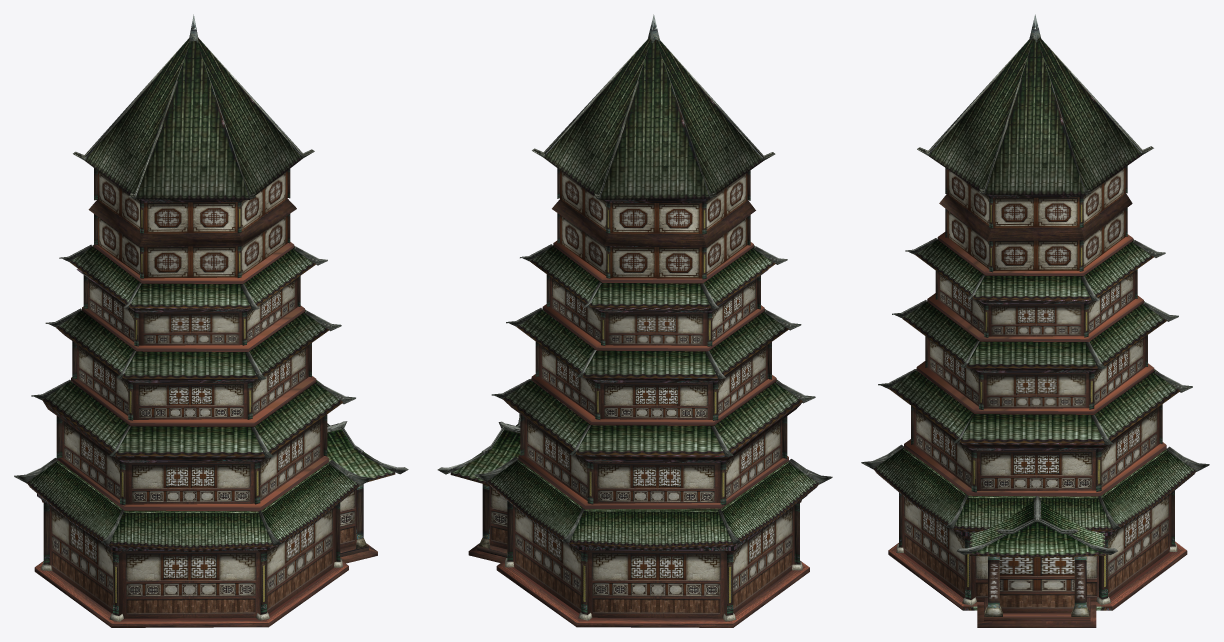
The model's file is c1-013-6tower_lod_01.fbx.
3 views of the same model, side by side, from view 1: azimuth 30°, elevation 25°; view 2: azimuth 150°, elevation 25°; view 3: azimuth 270°, elevation 25° (orthographic). The views are drawn at different scales.
Parts seen in each view (by area): view 1: c1-013-6tower-01, c1-013-6tower-02; view 2: c1-013-6tower-01, c1-013-6tower-02; view 3: c1-013-6tower-01, c1-013-6tower-02.
Part boxes in pixels (x1,y1,x2,y2): c1-013-6tower-01: [43, 14, 377, 618]; c1-013-6tower-02: [14, 199, 408, 627]; c1-013-6tower-01: [468, 14, 799, 618]; c1-013-6tower-02: [437, 198, 832, 627]; c1-013-6tower-01: [899, 14, 1174, 627]; c1-013-6tower-02: [861, 194, 1209, 621].
Size of the model in its own units: 15.62 by 26.84 by 15.67.
